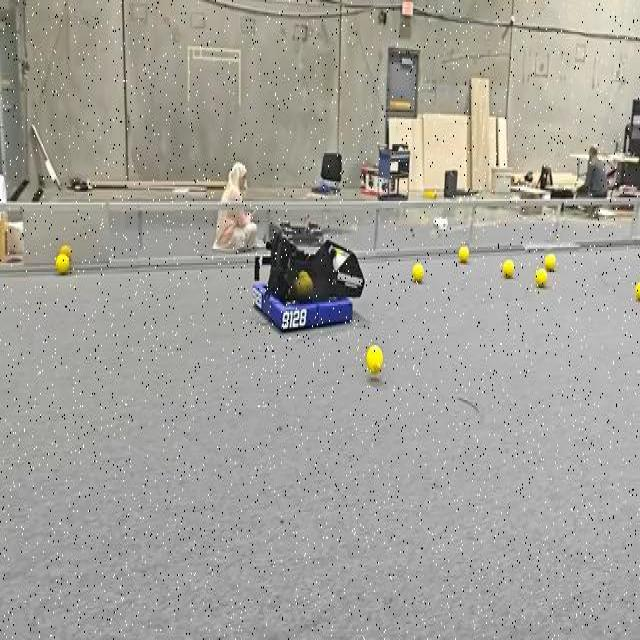Fuel: (366, 344, 383, 374), (366, 345, 382, 373), (296, 271, 312, 297), (56, 253, 70, 274), (55, 254, 69, 274), (502, 259, 515, 278), (412, 262, 424, 282), (535, 268, 547, 287), (535, 268, 547, 286), (59, 244, 72, 260), (59, 243, 71, 260), (412, 263, 423, 281), (503, 260, 514, 278), (458, 246, 469, 264), (545, 253, 556, 271), (544, 254, 555, 270), (459, 246, 469, 262), (636, 282, 640, 301)
